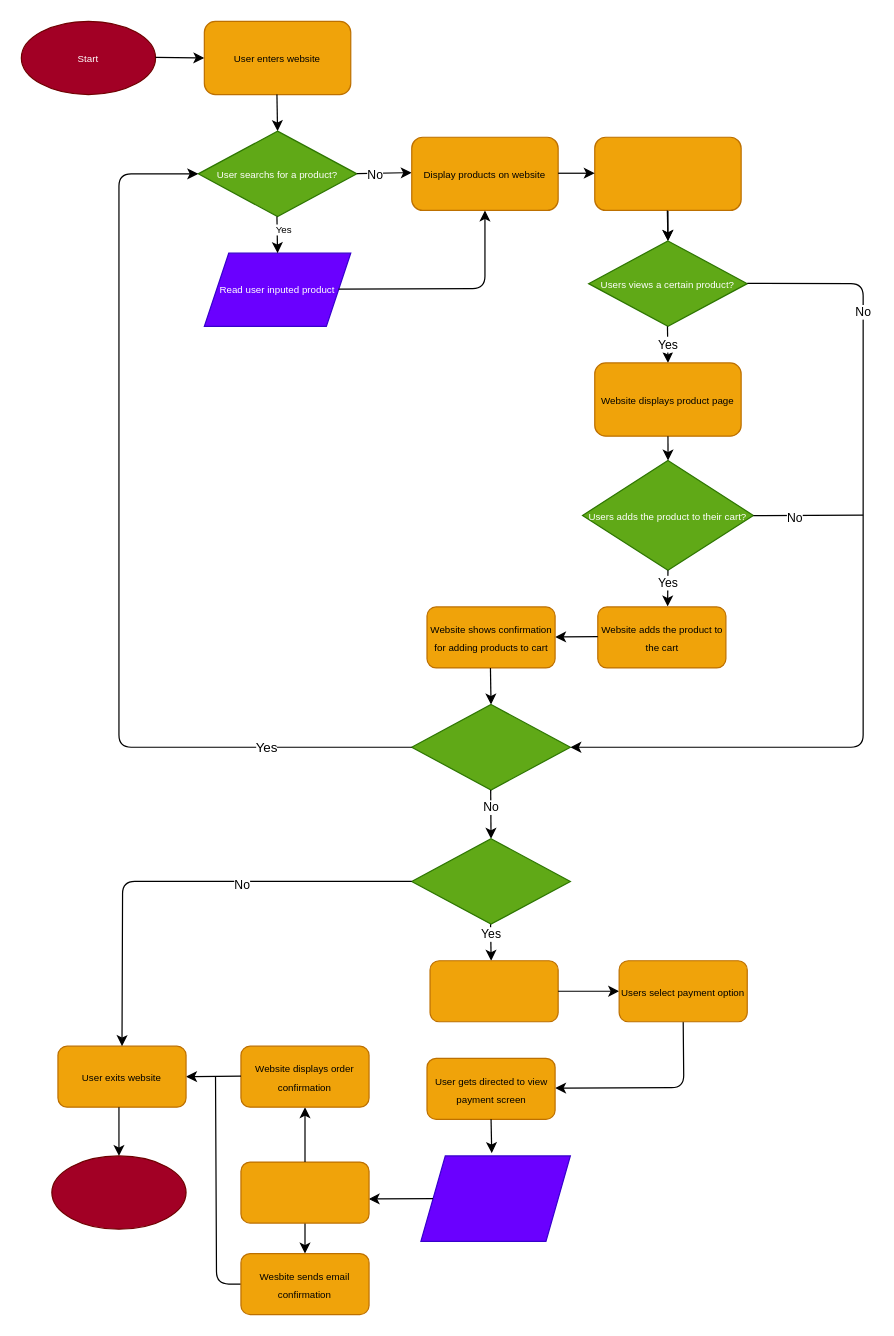
Image size: 894x1336. Some labels were removed from this diagram. The centre of each missing label's shape, as x and y in pixels:
"End" belongs at pixel 118 1192.
"User checks out?" belongs at pixel 490 881.
"User inputs payment details" belongs at pixel 495 1198.
"User pays" belongs at pixel 304 1192.
"User sees view cart screen" belongs at pixel 493 991.
"Users looks at various products" belongs at pixel 667 173.
"Users wants to continue shopping?" belongs at pixel 490 746.
